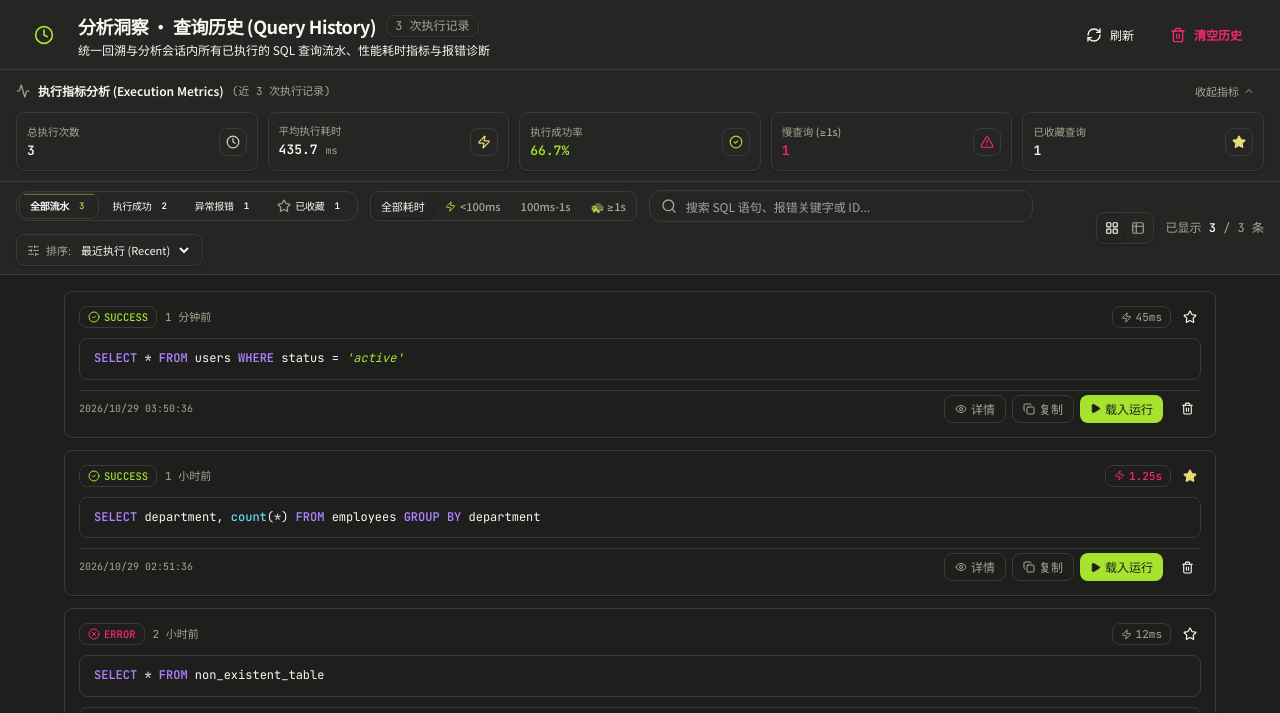
HistoryTab workbench › toggles between card view and compact table view
The width and height of the screenshot is (1280, 713).
Switch to Table View
Click the button titled "紧凑表格视图 (Data Table View)": point(1138, 228) [1125, 215, 1151, 241]
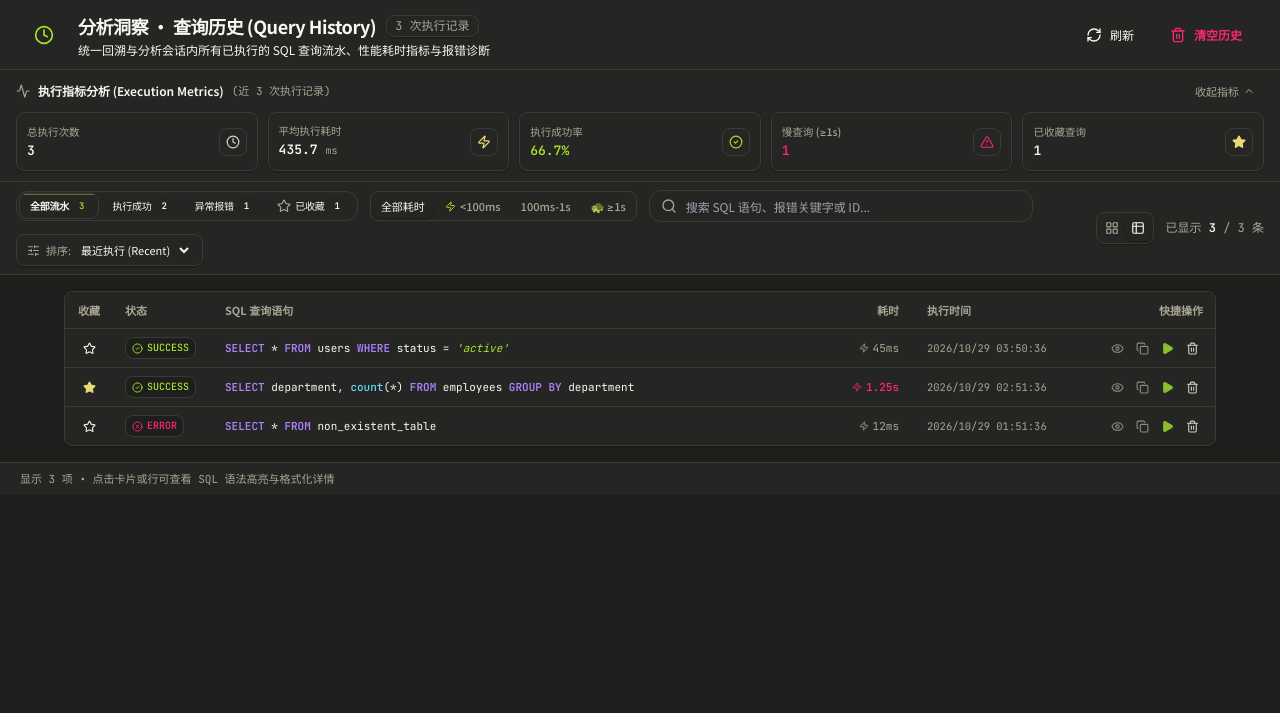
Check: the column heading "SQL 查询语句" is shown, box [209, 292, 799, 328]
Check: the column heading "耗时" is shown, box [799, 292, 911, 328]
Check: the column heading "执行时间" is shown, box [911, 292, 1071, 328]
Switch back to Card View
Click the button titled "卡片流视图 (Card Flow View)": point(1112, 228) [1099, 215, 1125, 241]
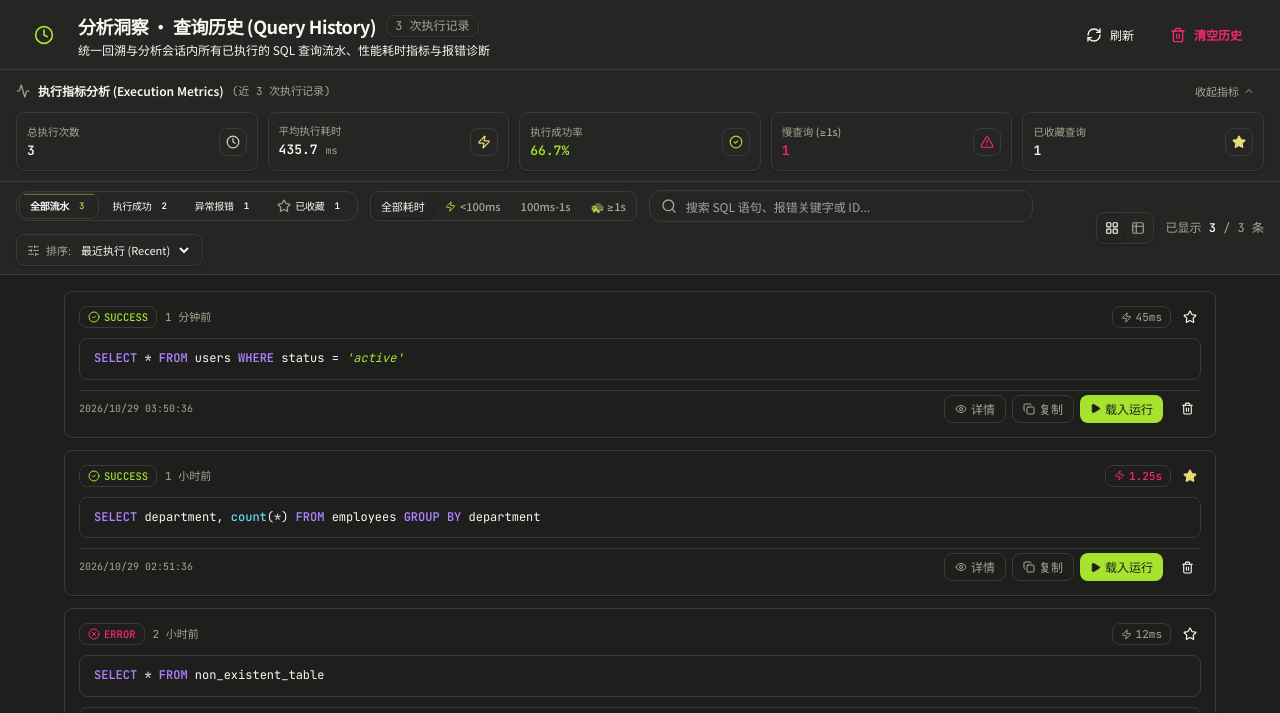
Check: the column heading "SQL 查询语句" is gone
